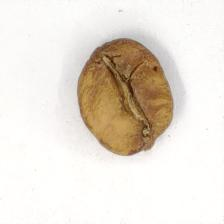NG: (86, 53, 158, 146)
